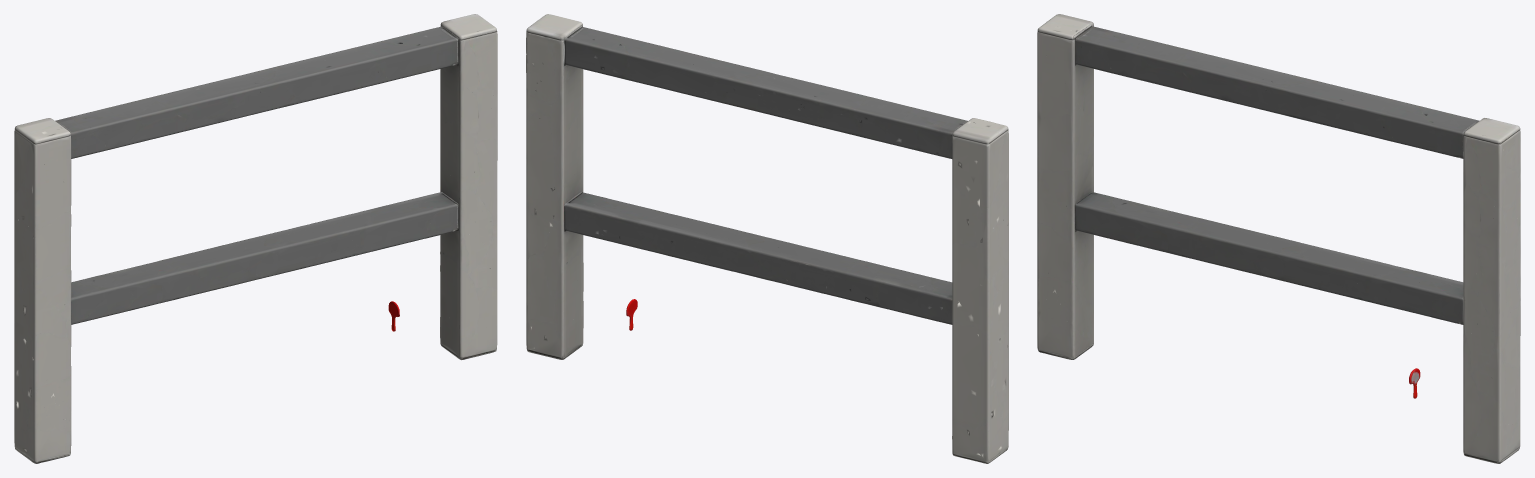
File: model-26-railing.glb
3 renders of one model, left to right at view 1: azimuth 30°, elevation 25°; view 2: azimuth 150°, elevation 25°; view 3: azimuth 330°, elevation 25°, orthographic.
Parts seen in each view (by area): view 1: node_0; view 2: node_0; view 3: node_0.
Part boxes in pixels (box(x1,y1,x2,y2)): node_0: box(14, 14, 497, 463); node_0: box(526, 14, 1008, 463); node_0: box(1037, 14, 1520, 463).
Bounding box in the file's own units: 0.9997 × 0.6687 × 0.0795.
1 material, 1 textured.
